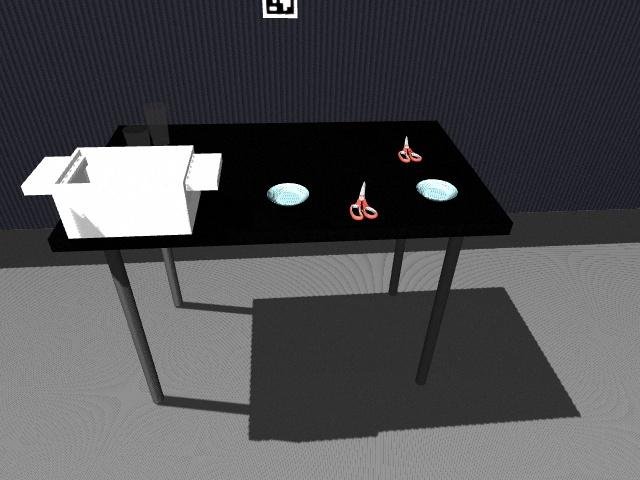cup: (142, 101, 170, 145), (122, 125, 151, 147)
plate: (413, 177, 460, 203), (267, 183, 309, 205), (268, 187, 281, 202)
scissors: (349, 180, 379, 221), (398, 134, 424, 163)
